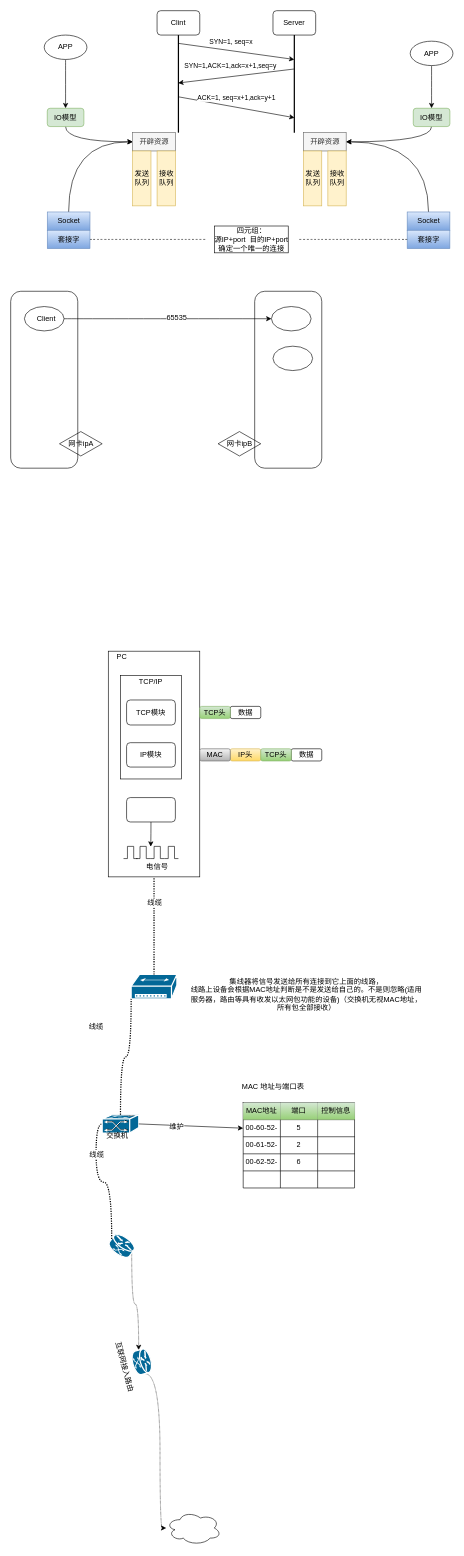
The diagram is 464 pixels wide and 1556 high, and some of its shapes have lost their labels. The centre of each missing label's shape, as x and y in pixels:
Server : 80: point 291,318
Server : 8080: point 292,358
互联网: point 193,1528
网卡(以太网): point 150,809
路由器: point 121,1245
集线器: point 153,986
